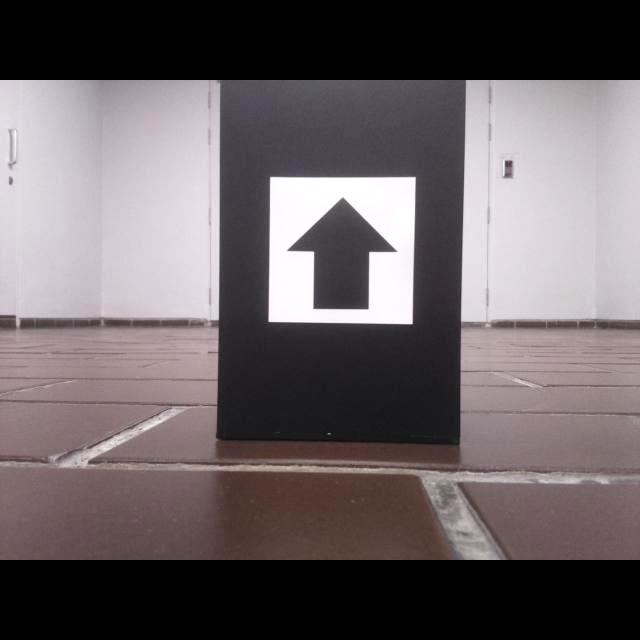UP: (285, 195, 398, 310)
